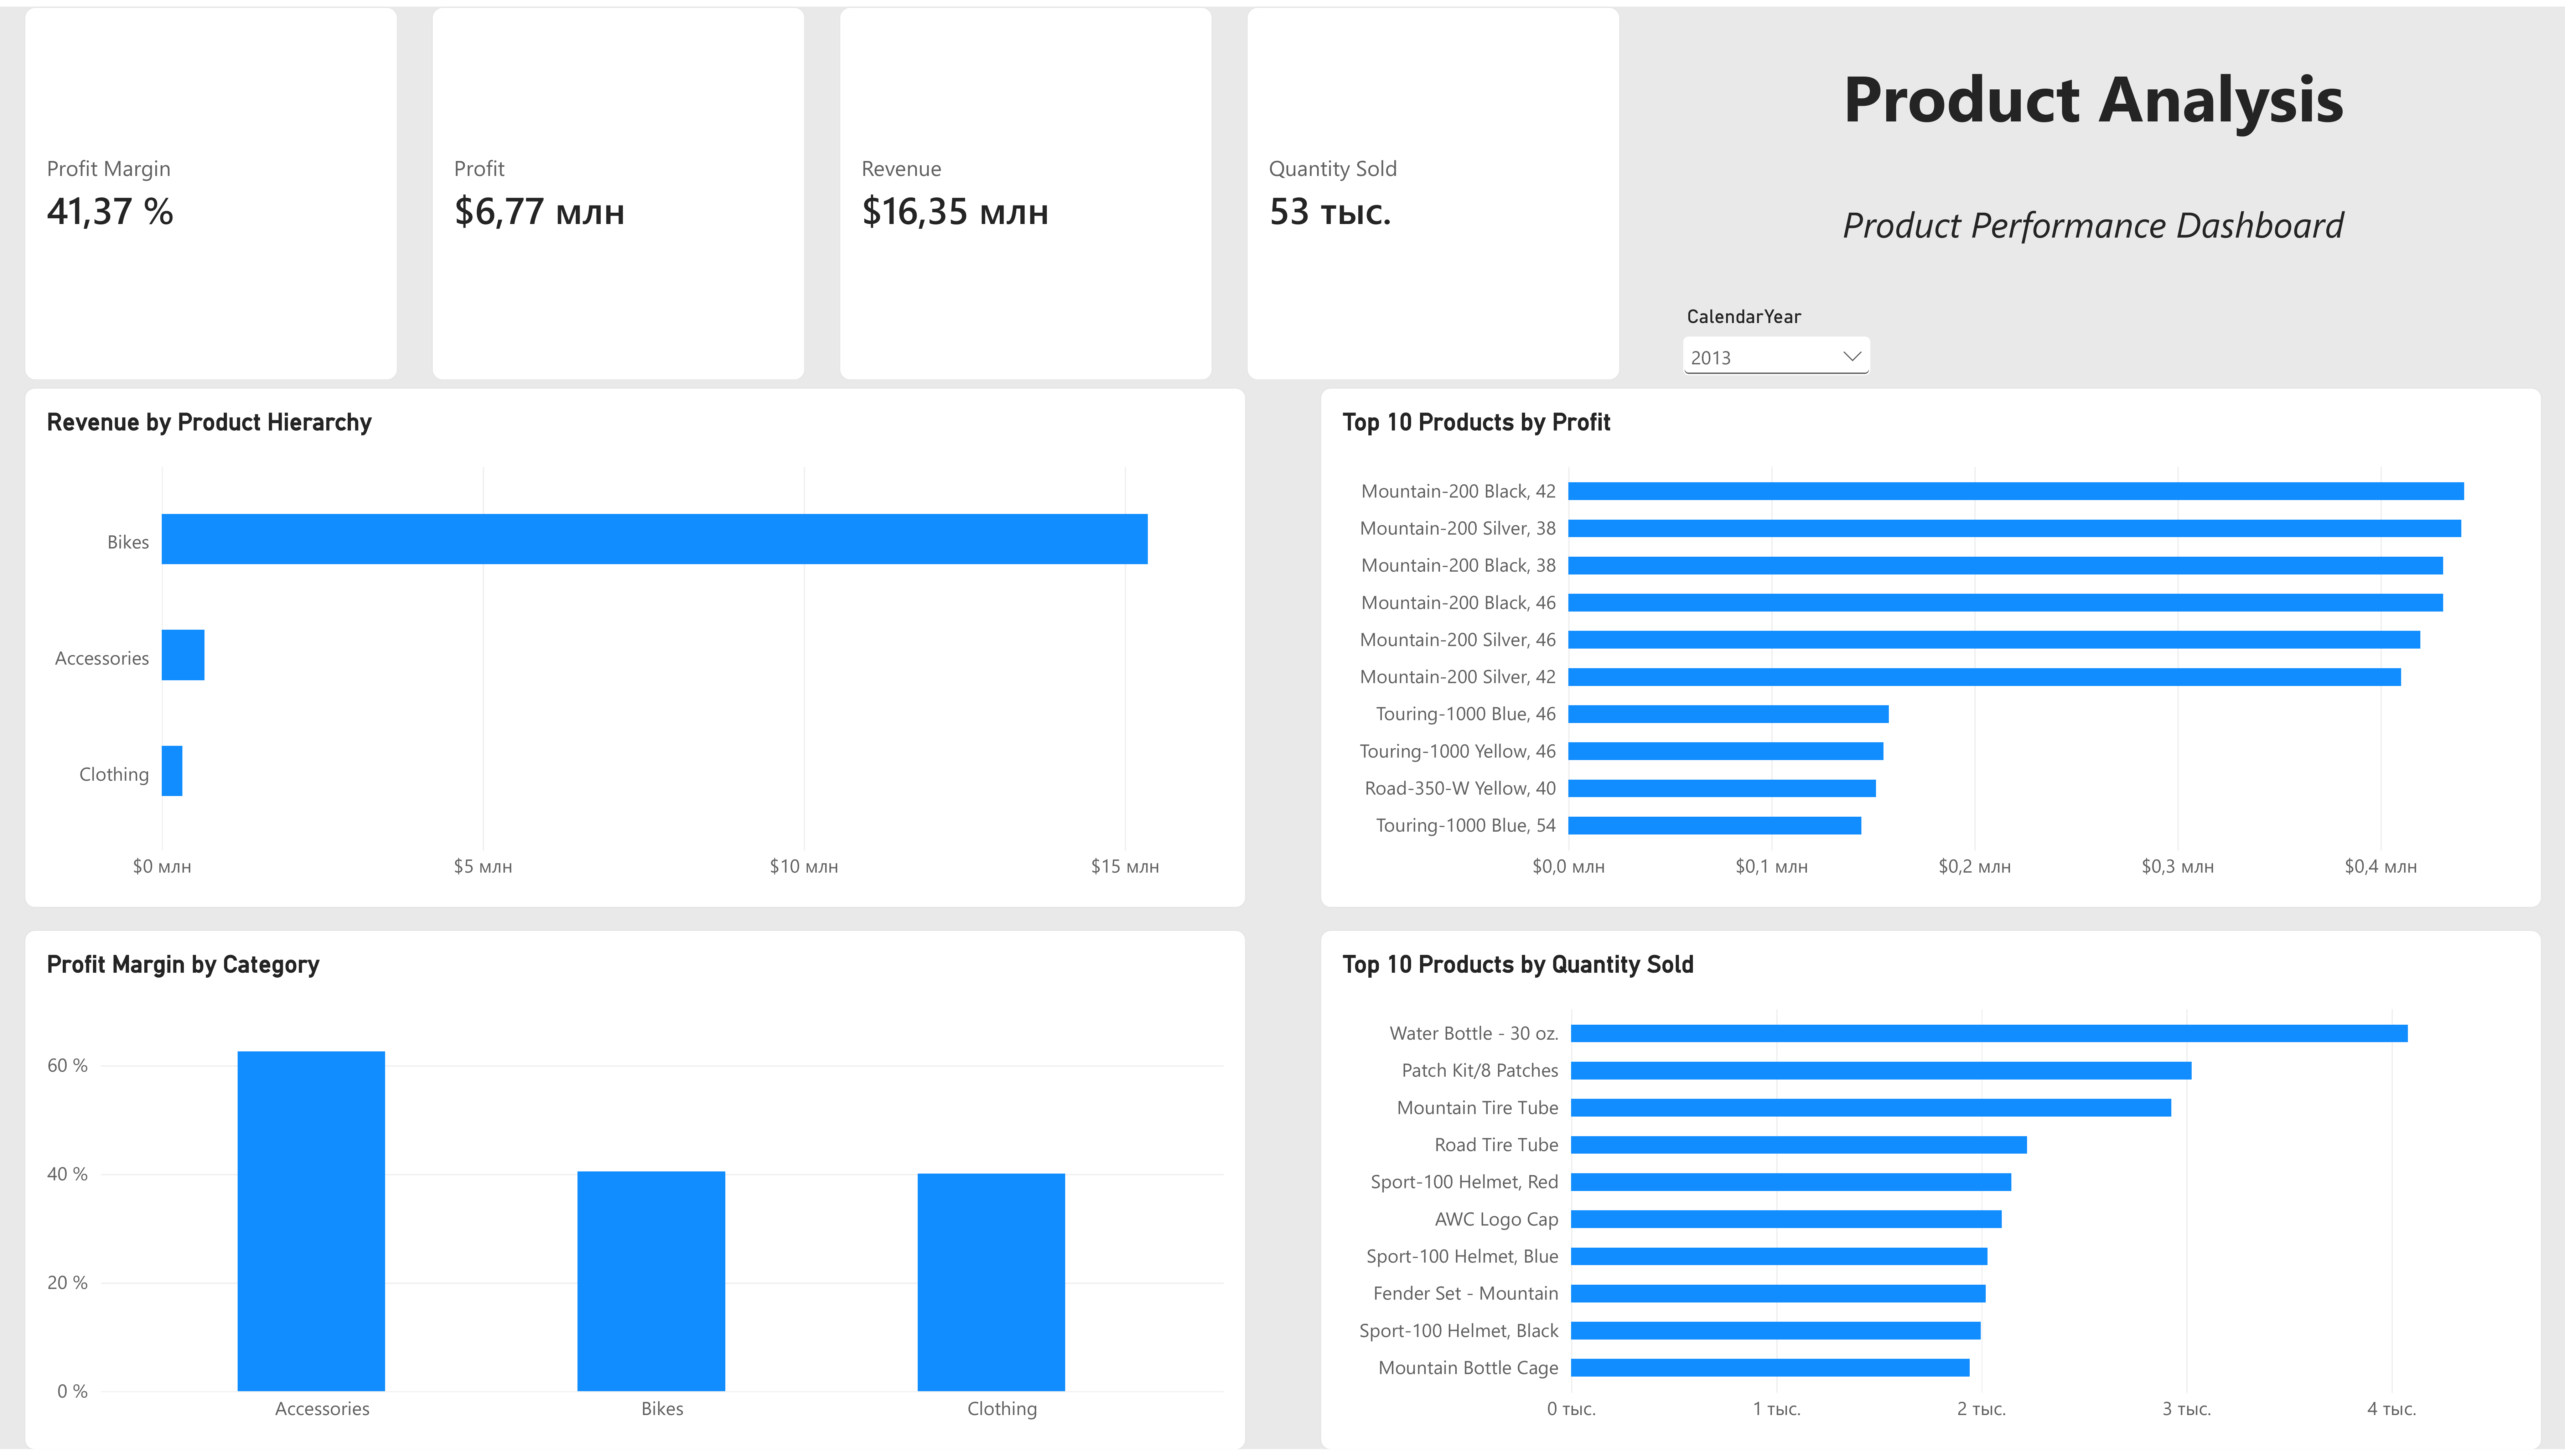

Layout of this report page (visuals, bound fields, positions):
{"tool":"powerbi","page":{"name":"Product Analysis","canvas":[1920,1080],"ordinal":1},"visuals":[{"type":"cardVisual","fields":{"Data":["FactInternetSales.Profit"]},"box":[323.3,0,280,280],"z":0},{"type":"cardVisual","fields":{"Data":["FactInternetSales.Profit Margin"]},"box":[18.2,0,280,280],"z":1000},{"type":"cardVisual","fields":{"Data":["FactInternetSales.Quantity Sold"]},"box":[933.5,0,280,280],"z":2000},{"type":"cardVisual","fields":{"Data":["FactInternetSales.Revenue"]},"box":[628.4,0,280,280],"z":3000},{"type":"slicer","fields":{"Values":["DimDate.CalendarYear"]},"box":[1254.7,224.3,150,60],"z":4000},{"type":"clusteredBarChart","title":"Revenue by Product Hierarchy","fields":{"Category":["DimProductCategory.EnglishProductCategoryName","DimProductSubcategory.EnglishProductSubcategoryName","DimProduct.EnglishProductName"],"Y":["FactInternetSales.Revenue"]},"box":[18.2,284.9,915,390],"z":5000},{"type":"clusteredBarChart","title":"Top 10 Products by Profit","fields":{"Category":["DimProduct.EnglishProductName"],"Y":["FactInternetSales.Profit"]},"box":[988,284.9,915,390],"z":6000},{"type":"clusteredBarChart","title":"Top 10 Products by Quantity Sold","fields":{"Category":["DimProduct.EnglishProductName"],"Y":["FactInternetSales.Quantity Sold"]},"box":[988,691,915,390],"z":7000},{"type":"textbox","box":[1213.8,15.2,706.2,115.2],"z":8000},{"type":"textbox","box":[1213.8,144,706.2,71.2],"z":9000},{"type":"columnChart","title":"Profit Margin by Category","fields":{"Category":["DimProductCategory.EnglishProductCategoryName"],"Y":["FactInternetSales.Profit Margin"]},"box":[18.2,691,915,390],"z":10000}]}

Visuals, with their boxes in screenshot pixels (x1, y1, x2, y2), scaled from the page's 1920x1080 canvas onto the 2565x1456 screenshot:
cardVisual - FactInternetSales.Profit: [432, 0, 806, 378]
cardVisual - FactInternetSales.Profit Margin: [24, 0, 398, 378]
cardVisual - FactInternetSales.Quantity Sold: [1247, 0, 1621, 378]
cardVisual - FactInternetSales.Revenue: [839, 0, 1213, 378]
slicer - DimDate.CalendarYear: [1676, 302, 1877, 383]
"Revenue by Product Hierarchy" clusteredBarChart: [24, 384, 1247, 910]
"Top 10 Products by Profit" clusteredBarChart: [1320, 384, 2542, 910]
"Top 10 Products by Quantity Sold" clusteredBarChart: [1320, 932, 2542, 1456]
textbox: [1622, 21, 2565, 176]
textbox: [1622, 194, 2565, 290]
"Profit Margin by Category" columnChart: [24, 932, 1247, 1456]
